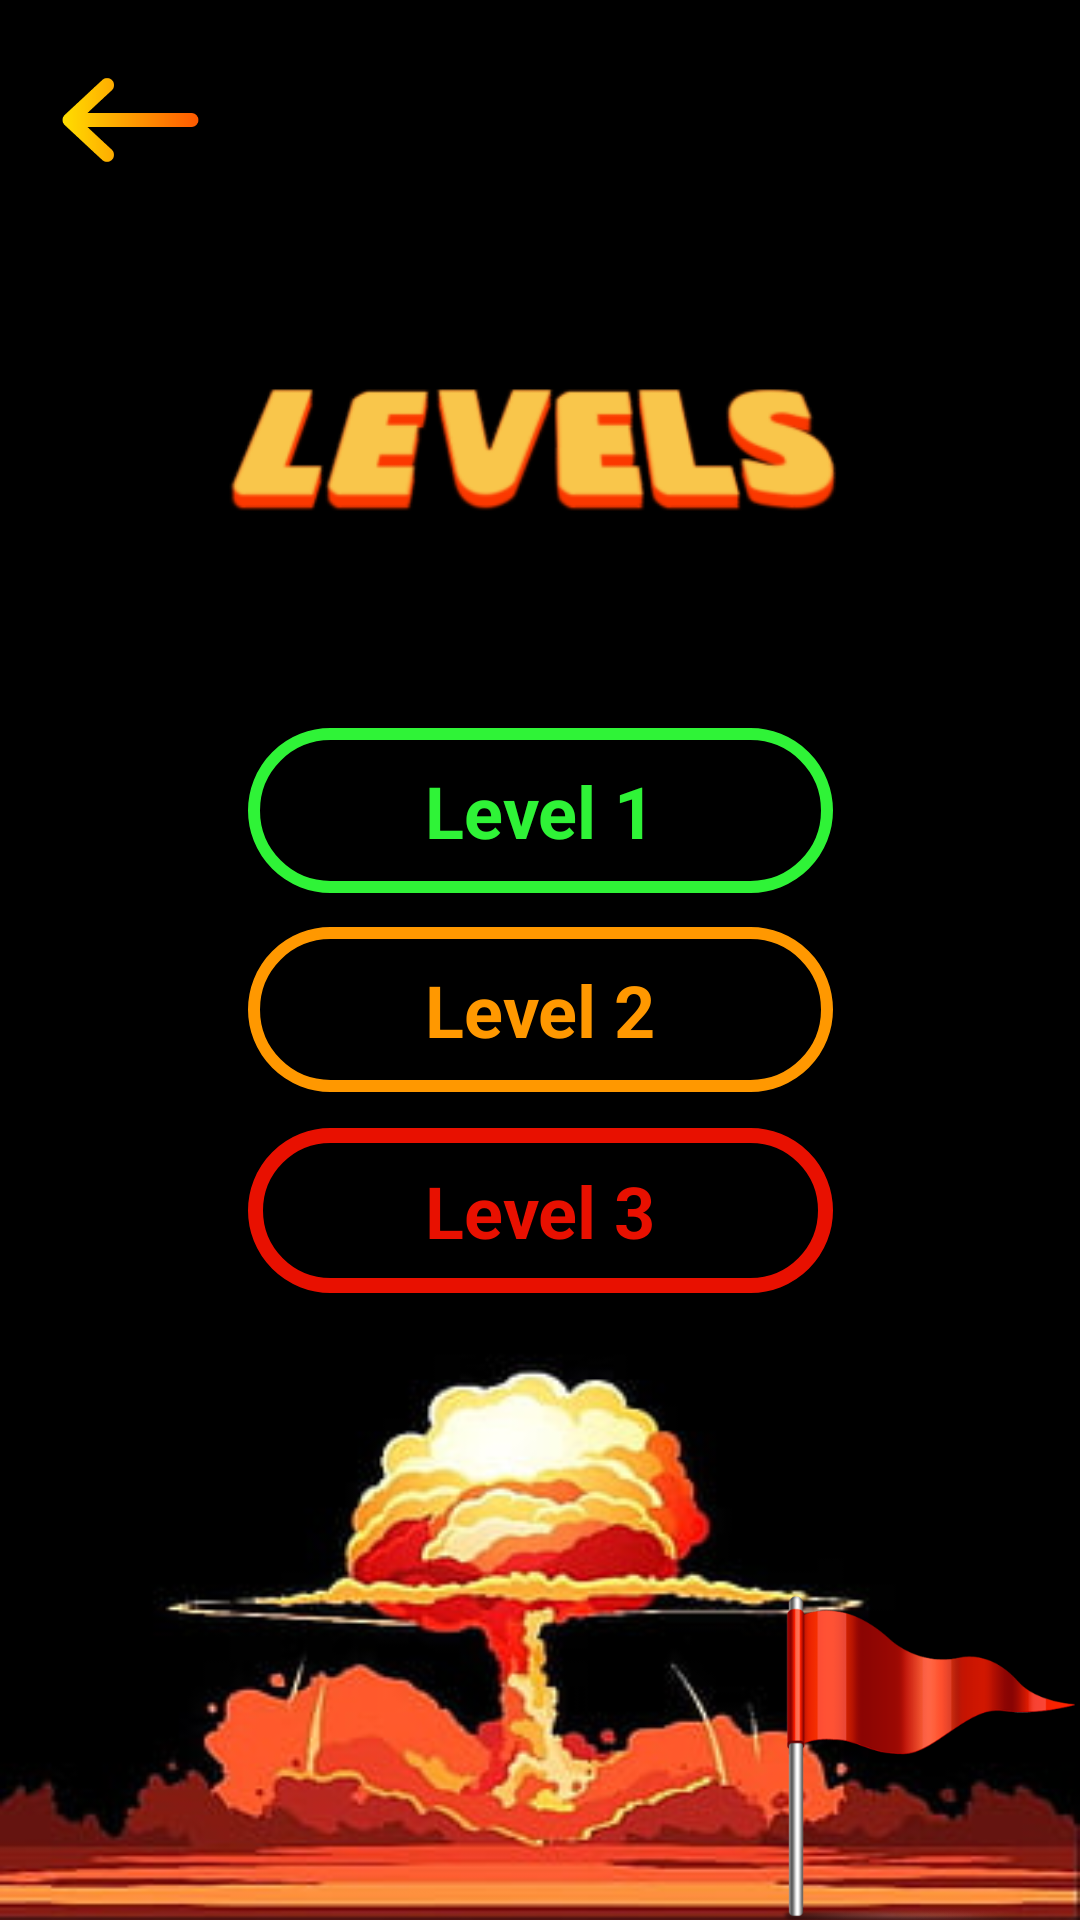

Screen size 1080*1920. Icon name, then its center in pixels as [x,y]:
Back Button: [130,120]
Flag: [930,1754]
